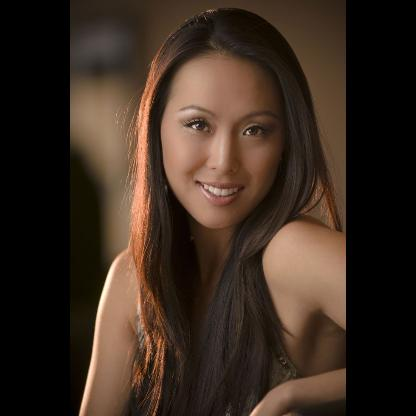Female: (159, 50, 285, 226)
